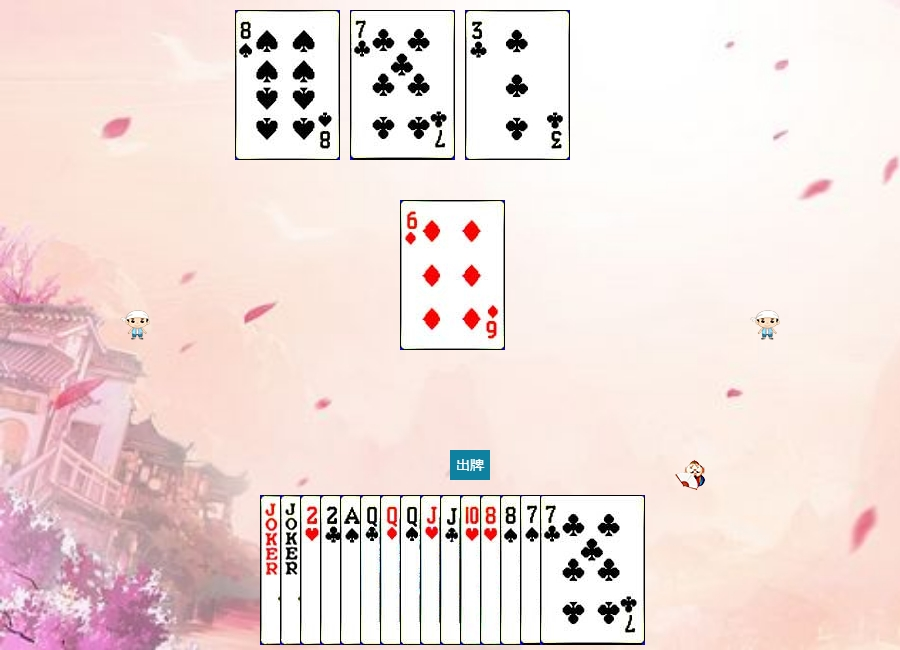10~3: (460, 495, 565, 645)
11~2: (440, 495, 545, 645)
11~3: (420, 495, 525, 645)
12~1: (380, 495, 485, 645)
12~2: (360, 495, 465, 645)
12~4: (400, 495, 505, 645)
14~4: (340, 495, 445, 645)
15~2: (320, 495, 425, 645)
15~3: (300, 495, 405, 645)
17~3: (280, 495, 385, 645)
18~4: (260, 495, 365, 645)
3~2: (465, 10, 570, 160)
6~1: (400, 200, 505, 350)
7~2: (350, 10, 455, 160), (540, 495, 645, 645)
7~4: (520, 495, 625, 645)
8~3: (480, 495, 585, 645)
8~4: (235, 10, 340, 160), (500, 495, 605, 645)
